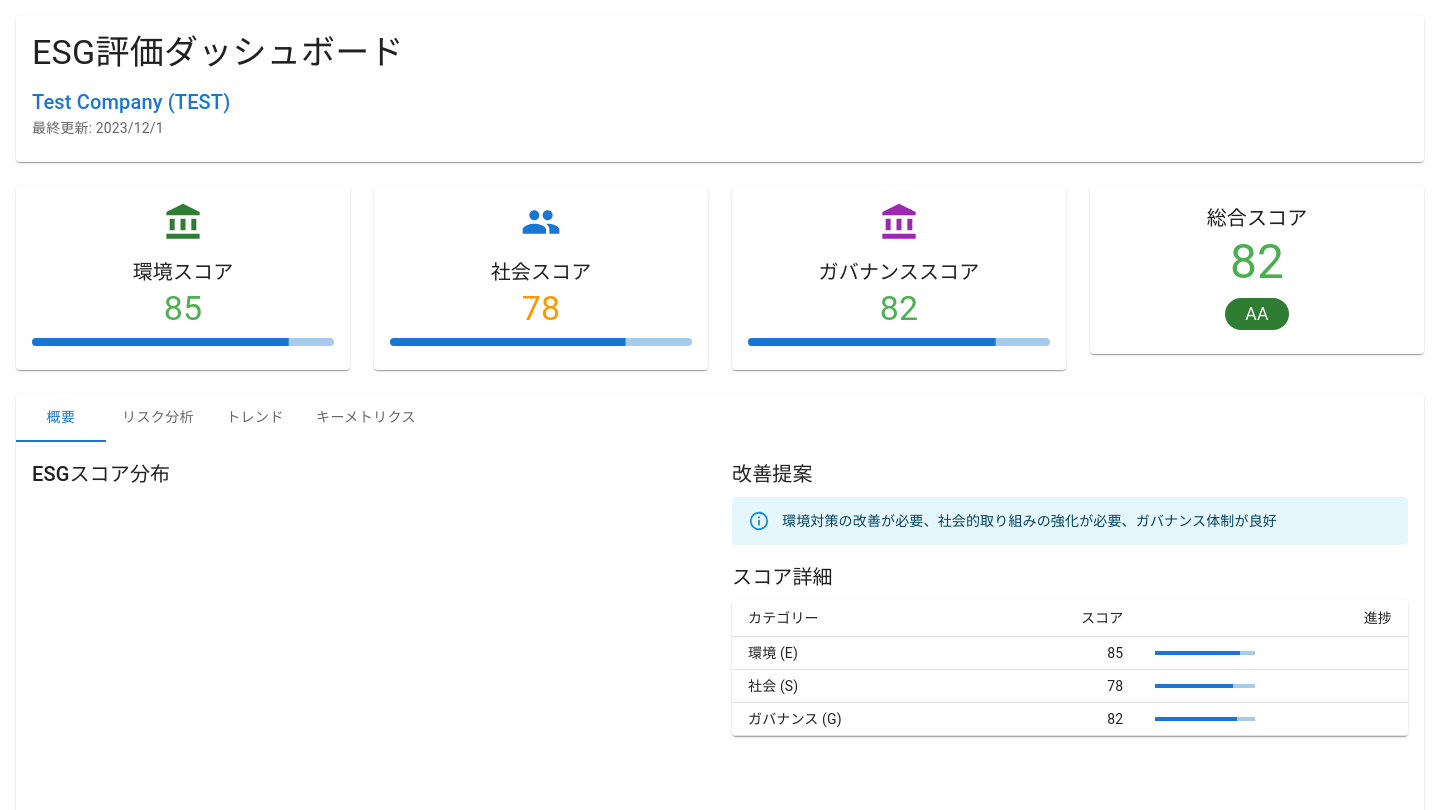
Test: ESGDashboard › should handle missing key metrics
The image size is (1440, 810).
expect the heading "ESG評価ダッシュボード" is shown: met, box left=32, top=32, right=404, bottom=72
// Switch to metrics tab
Click the tab "キーメトリクス" at (366, 418), box left=300, top=394, right=432, bottom=442
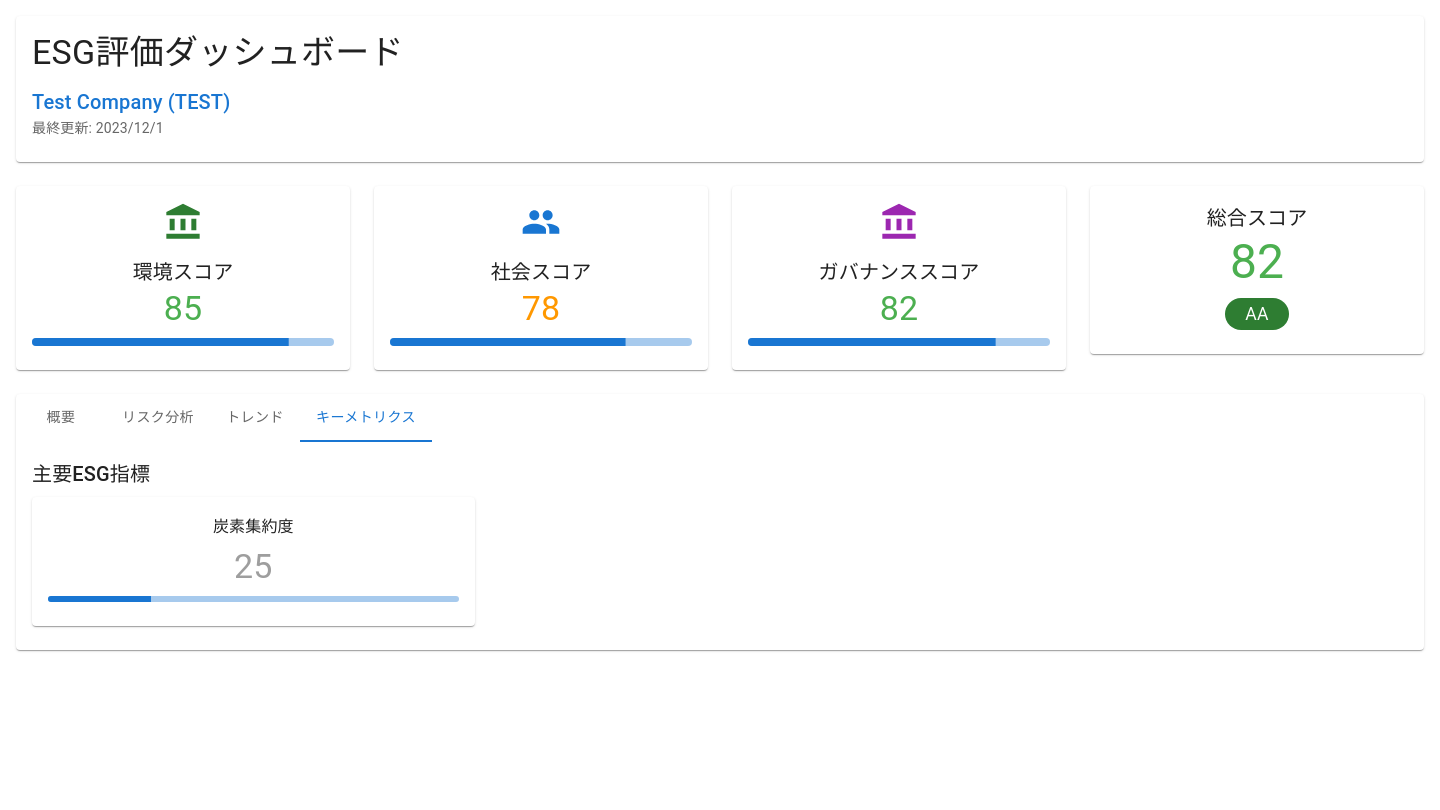
expect the heading "炭素集約度" is shown: met, box left=213, top=517, right=294, bottom=536
expect the heading "25" is shown: met, box left=234, top=546, right=273, bottom=586
